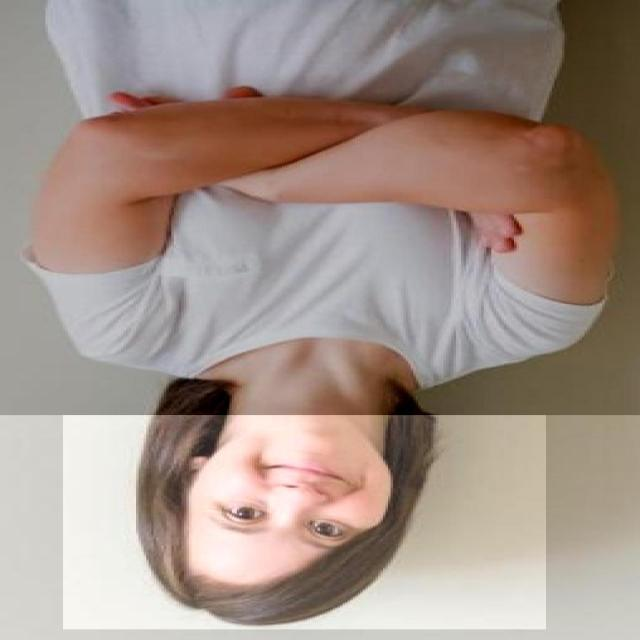Helmet: (0, 0, 640, 415), (63, 412, 546, 630)
